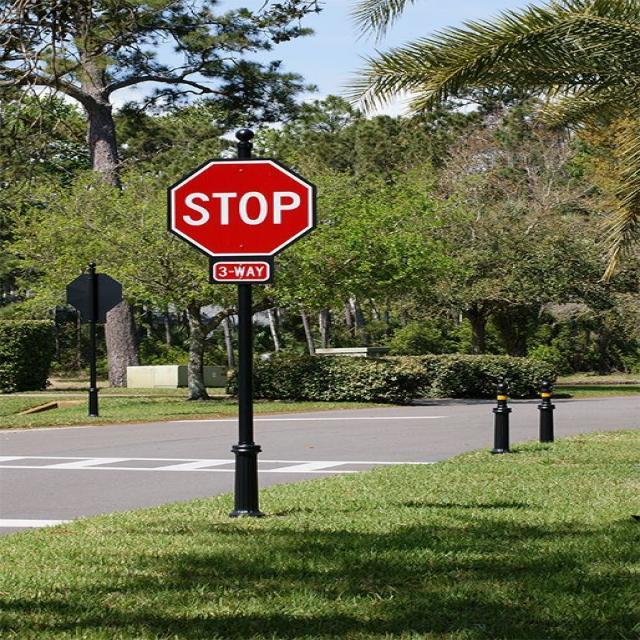stop: (167, 157, 315, 259)
